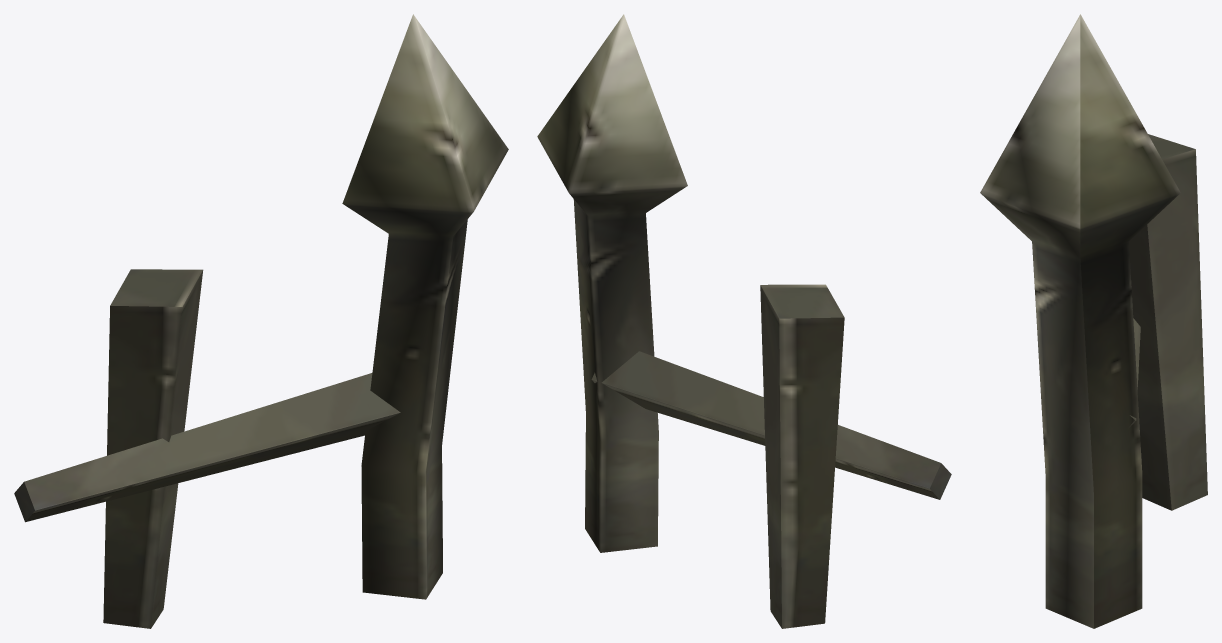
The model's file is langan02.FBX.
The picture shows the model from 3 angles, left to right: view 1: azimuth 30°, elevation 25°; view 2: azimuth 150°, elevation 25°; view 3: azimuth 270°, elevation 25°; orthographic projection. The views are drawn at different scales.
Parts seen in each view (by area): view 1: langan02; view 2: langan02; view 3: langan02.
Boxes of the visible parts, x1,y1,x2,y2 form: langan02: (14,14,508,628); langan02: (537,14,951,628); langan02: (980,14,1207,628).
Size of the model in its own units: 18.25 by 21.62 by 7.42.
